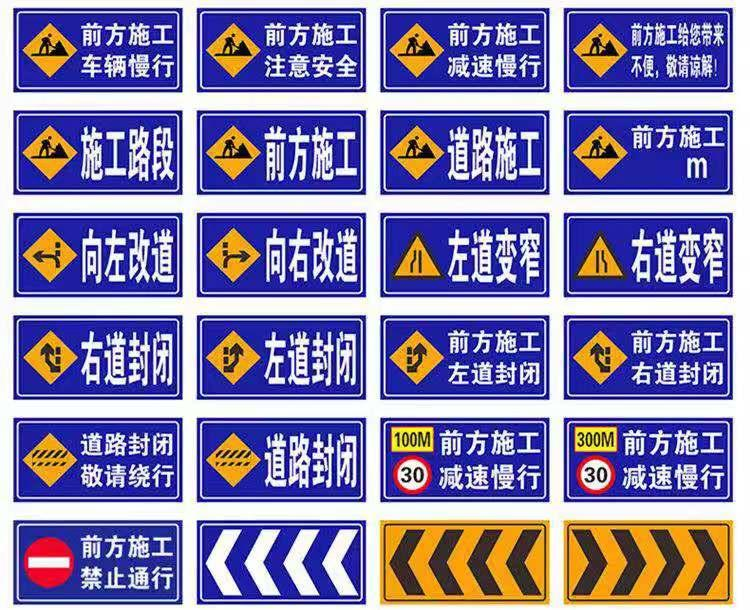sign: (380, 111, 548, 196), (15, 112, 182, 196), (564, 421, 734, 503), (381, 215, 548, 298), (566, 522, 735, 604), (200, 419, 366, 502), (567, 215, 733, 298), (199, 216, 366, 298), (14, 421, 183, 502), (198, 317, 367, 398), (14, 520, 180, 602), (198, 112, 364, 194), (384, 317, 548, 400), (568, 113, 732, 196), (15, 317, 181, 398), (383, 522, 549, 603), (198, 11, 368, 90), (383, 11, 548, 92), (382, 421, 547, 502), (199, 523, 364, 603), (18, 11, 182, 91), (14, 216, 180, 295), (569, 317, 730, 398), (568, 11, 730, 90)
